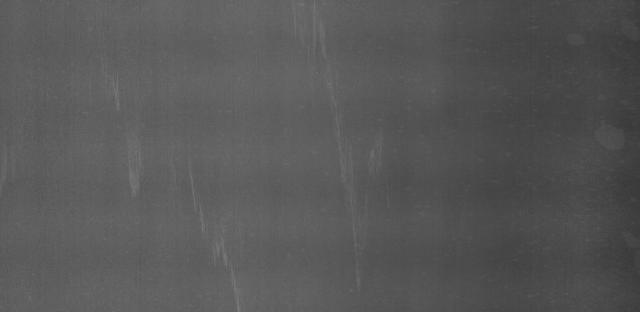silk_spot: (177, 174, 258, 312), (327, 135, 394, 287), (298, 16, 366, 115), (109, 138, 156, 192)
